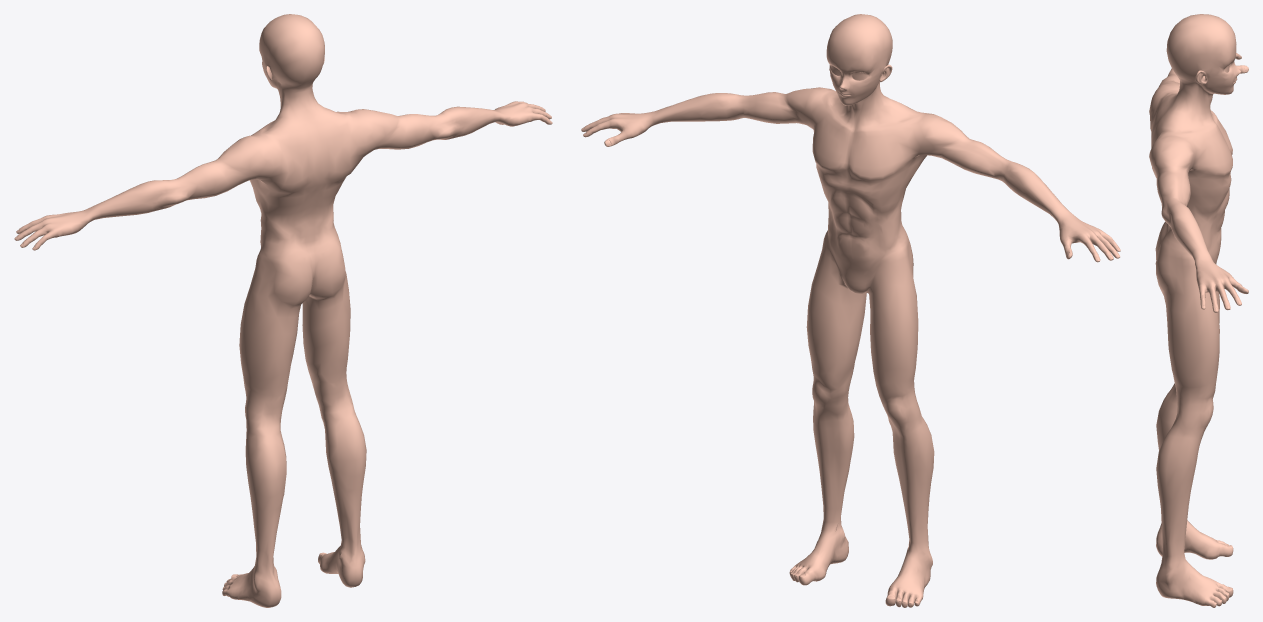
The model's file is fallback-male.glb.
3 renders of one model, left to right at view 1: azimuth 30°, elevation 25°; view 2: azimuth 150°, elevation 25°; view 3: azimuth 270°, elevation 25°, orthographic.
Parts seen in each view (by area): view 1: Anime_Boy_Body_Base_by_Alexz_art; view 2: Anime_Boy_Body_Base_by_Alexz_art; view 3: Anime_Boy_Body_Base_by_Alexz_art.
Boxes of the visible parts, x1,y1,x2,y2 form: Anime_Boy_Body_Base_by_Alexz_art: [14, 14, 552, 607]; Anime_Boy_Body_Base_by_Alexz_art: [581, 14, 1120, 607]; Anime_Boy_Body_Base_by_Alexz_art: [1149, 14, 1248, 607].
Bounding box in the file's own units: 1.87 × 1.91 × 0.3071.
